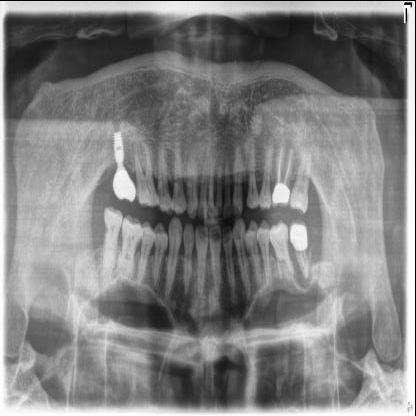Bicon: (114, 126, 129, 169)
